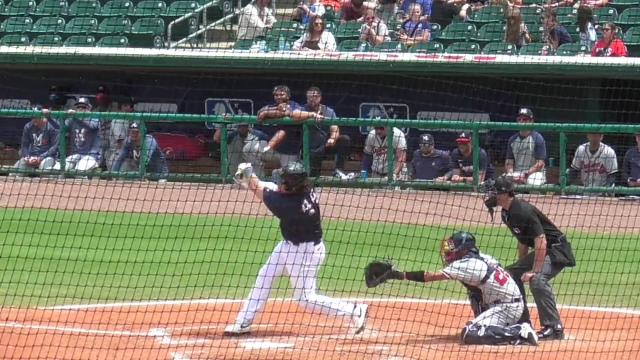ball: (486, 256, 498, 266)
bat: (250, 128, 290, 166)
